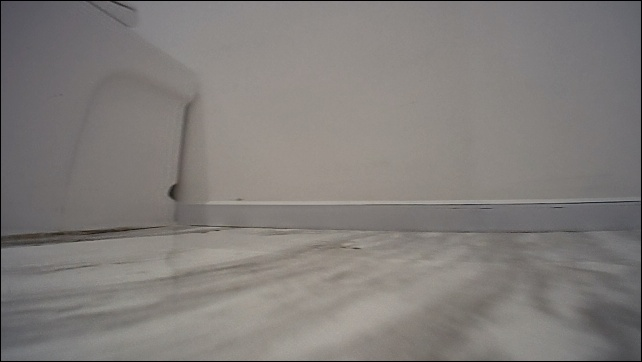toilet: (0, 5, 194, 237)
